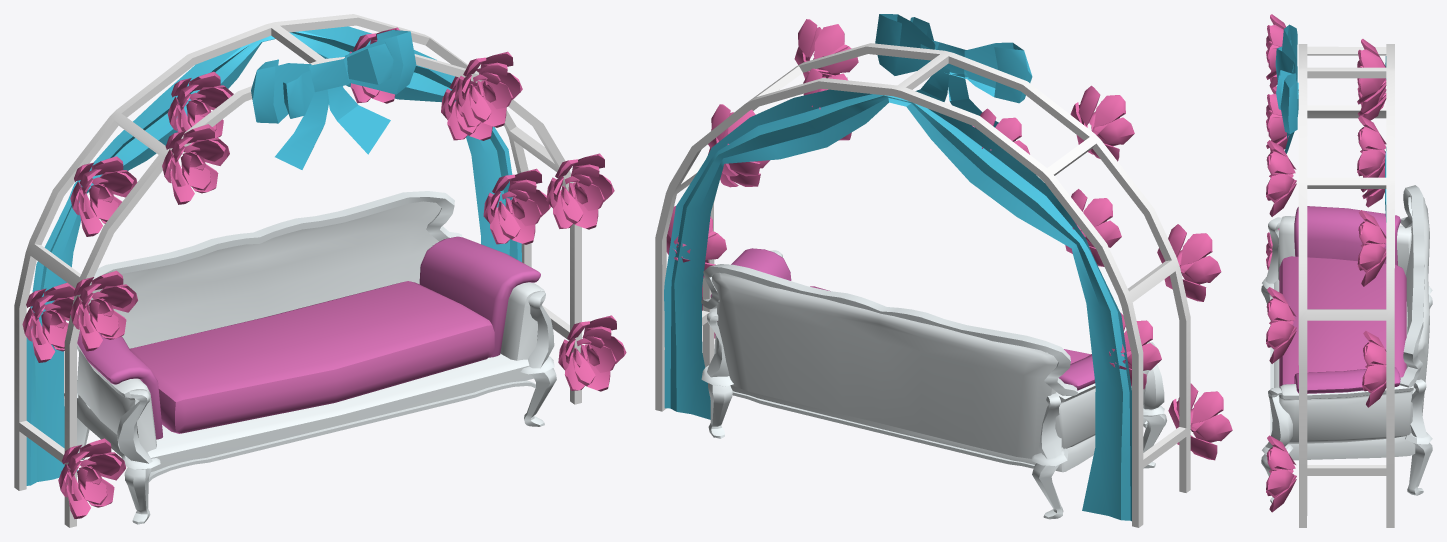
File: bridal_dais_real.fbx
3 renders of one model, left to right at view 1: azimuth 30°, elevation 25°; view 2: azimuth 150°, elevation 25°; view 3: azimuth 270°, elevation 25°, orthographic. The views are drawn at different scales.
Parts seen in each view (by area): view 1: sofa_, flowers_up_, frame_, clothing_, decor_; view 2: sofa_, clothing_, frame_, flowers_up_, decor_; view 3: sofa_, frame_, flowers_up_, decor_.
Boxes of the visible parts, left/top/right/bottom form: sofa_: left=64, top=191, right=556, bottom=524; flowers_up_: left=22, top=27, right=626, bottom=518; frame_: left=14, top=14, right=581, bottom=527; clothing_: left=26, top=26, right=521, bottom=485; decor_: left=251, top=30, right=416, bottom=169; sofa_: left=701, top=248, right=1166, bottom=519; clothing_: left=664, top=89, right=1131, bottom=521; frame_: left=655, top=43, right=1190, bottom=527; flowers_up_: left=666, top=19, right=1232, bottom=460; decor_: left=875, top=14, right=1032, bottom=127; sofa_: left=1261, top=185, right=1432, bottom=503; frame_: left=1298, top=44, right=1394, bottom=527; flowers_up_: left=1266, top=14, right=1386, bottom=512; decor_: left=1275, top=24, right=1298, bottom=153.
Size of the model in its own units: 37.11 by 26.35 by 11.2.
